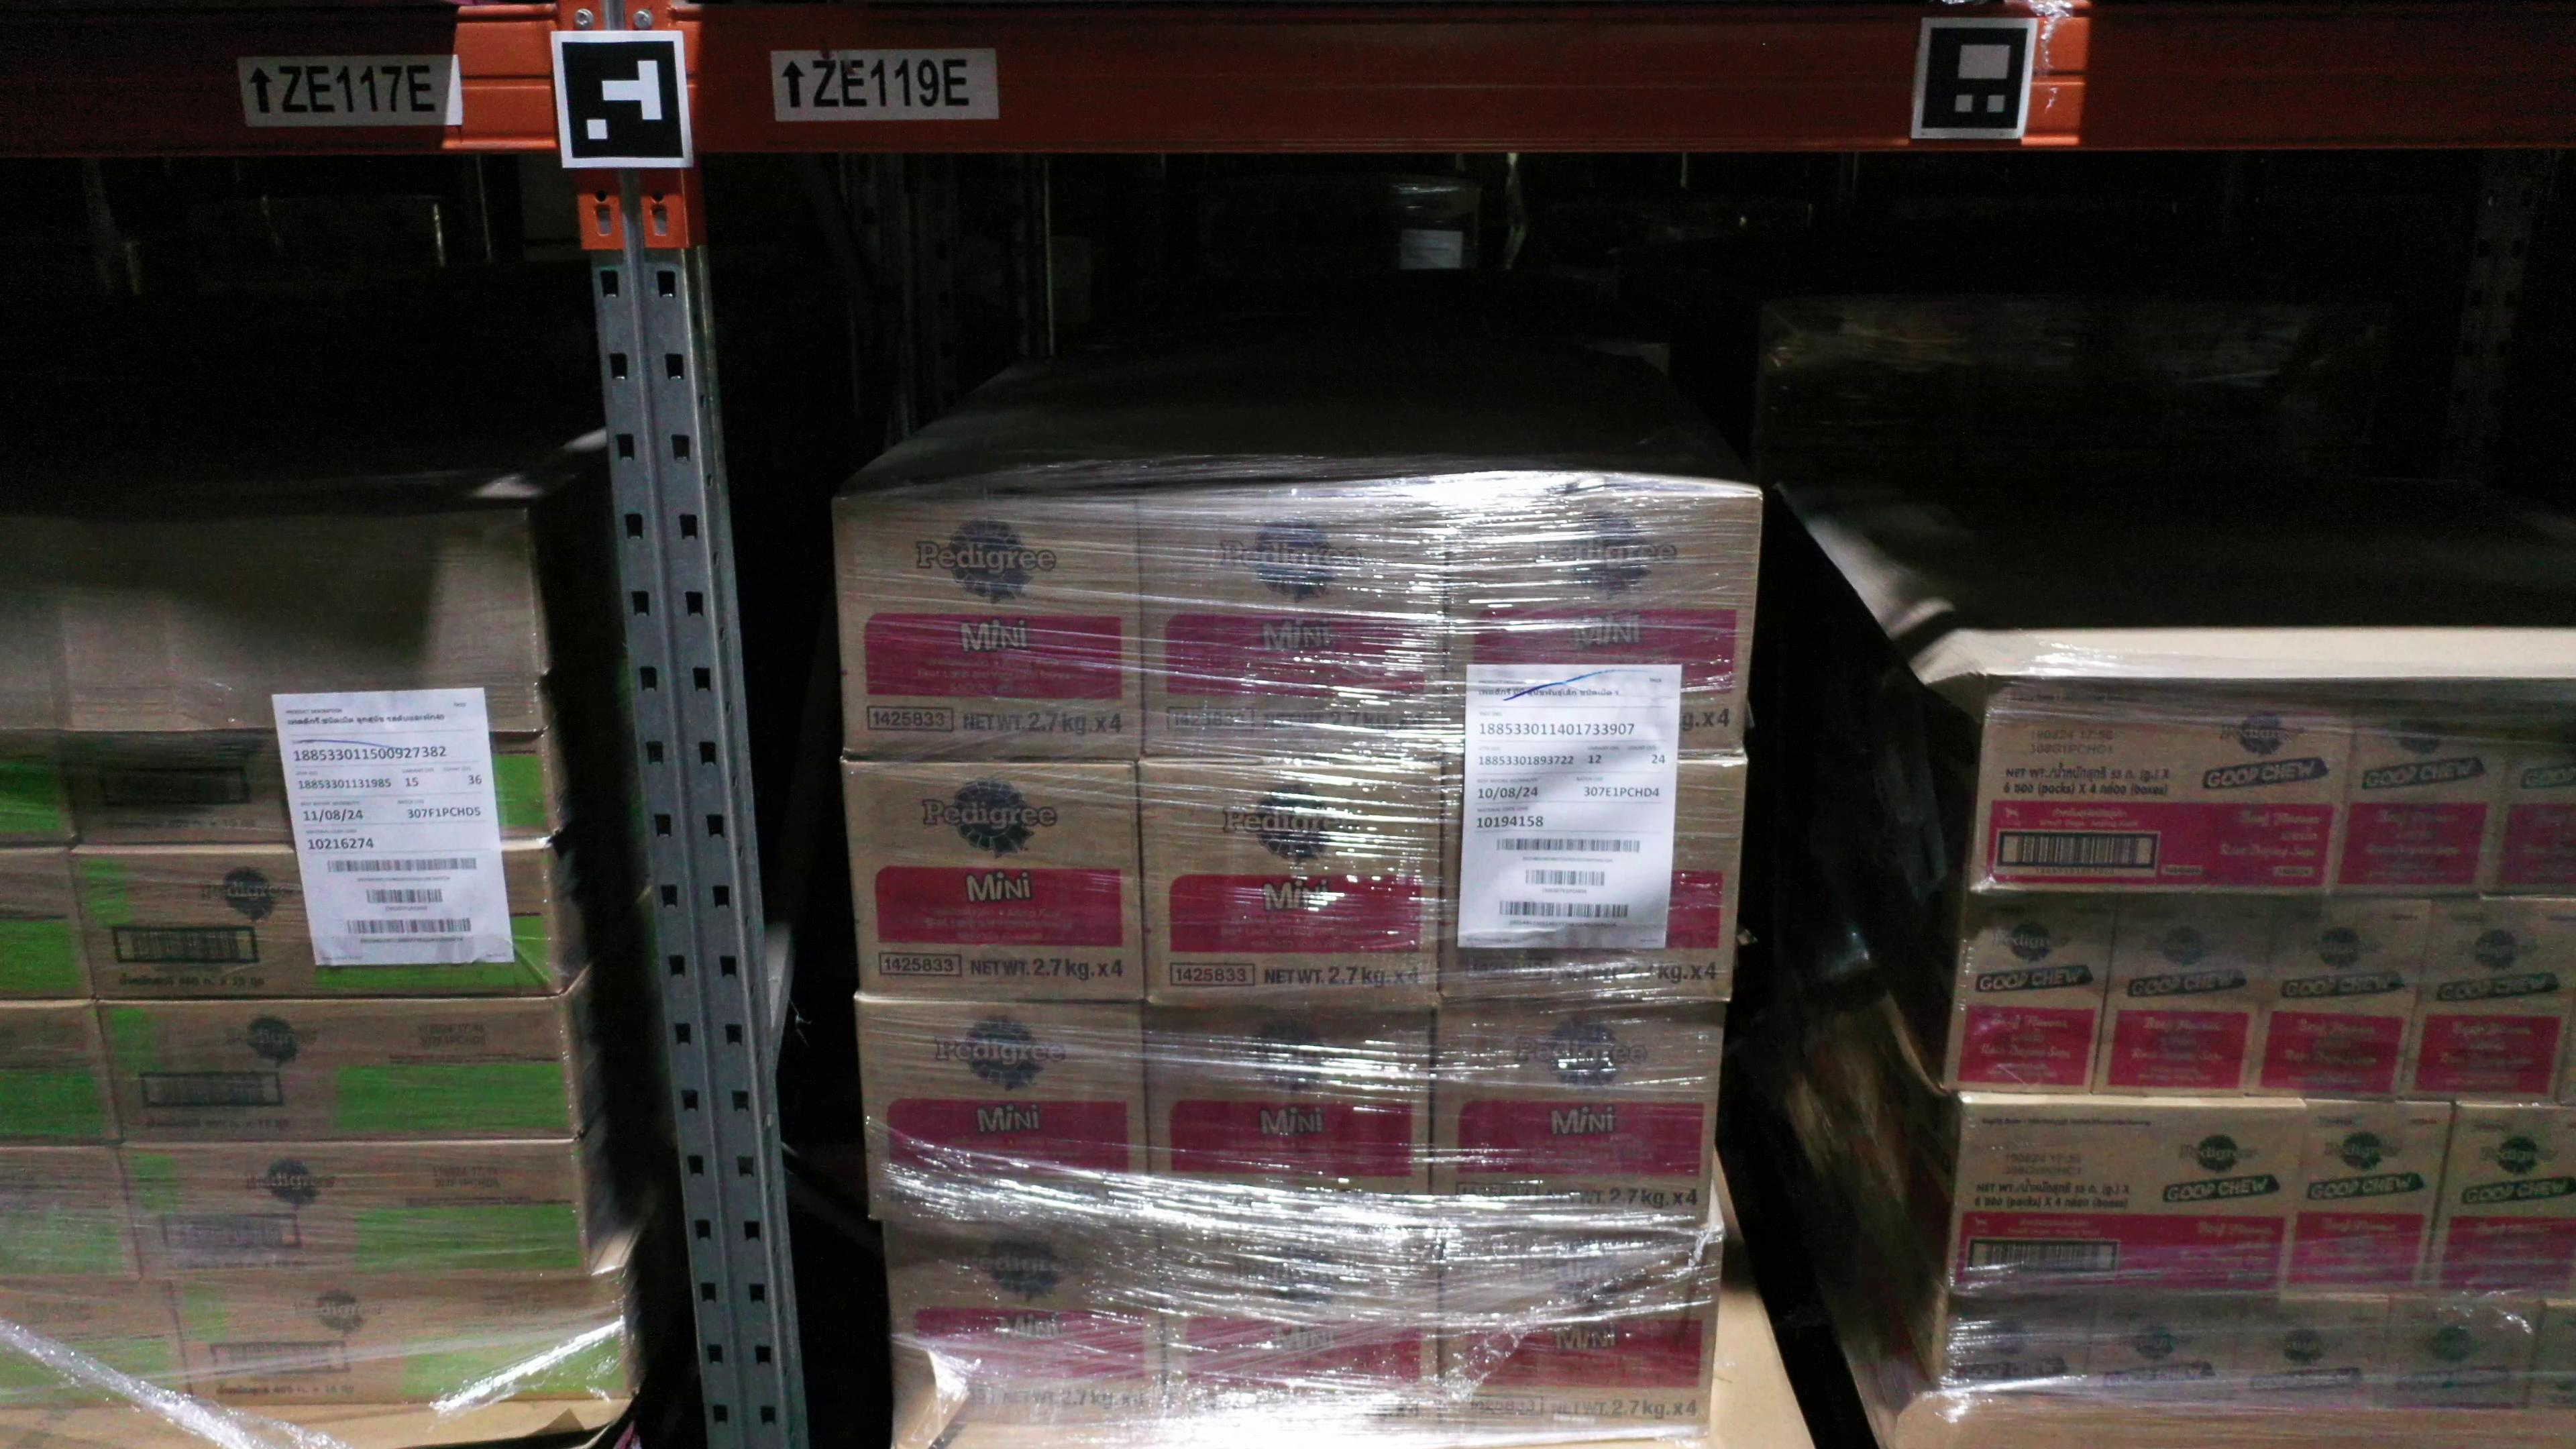-: (1440, 492, 1762, 764), (1969, 676, 2357, 897), (832, 492, 1146, 761), (1138, 497, 1449, 764), (74, 842, 559, 1001), (1138, 757, 1442, 1010), (842, 761, 1146, 1007), (1440, 761, 1746, 1003), (1948, 1102, 2307, 1299), (1430, 1001, 1723, 1237), (96, 1000, 575, 1143), (1143, 1001, 1435, 1231), (856, 998, 1152, 1223), (120, 1141, 587, 1277), (166, 1272, 633, 1407), (1159, 1226, 1438, 1438), (1438, 1235, 1721, 1440), (888, 1223, 1168, 1426), (62, 731, 552, 846), (2330, 679, 2518, 899), (2091, 895, 2282, 1099), (2249, 899, 2438, 1102), (2401, 897, 2576, 1108), (1946, 890, 2121, 1099), (2279, 1102, 2452, 1295), (2424, 1108, 2576, 1299), (0, 1277, 189, 1414), (0, 1143, 142, 1288), (2486, 678, 2576, 899), (2380, 1297, 2541, 1412), (0, 1000, 120, 1150), (2231, 1297, 2388, 1408), (2084, 1297, 2238, 1407), (1941, 1295, 2098, 1398), (0, 847, 96, 1001), (0, 729, 78, 849), (2528, 1302, 2576, 1412)
